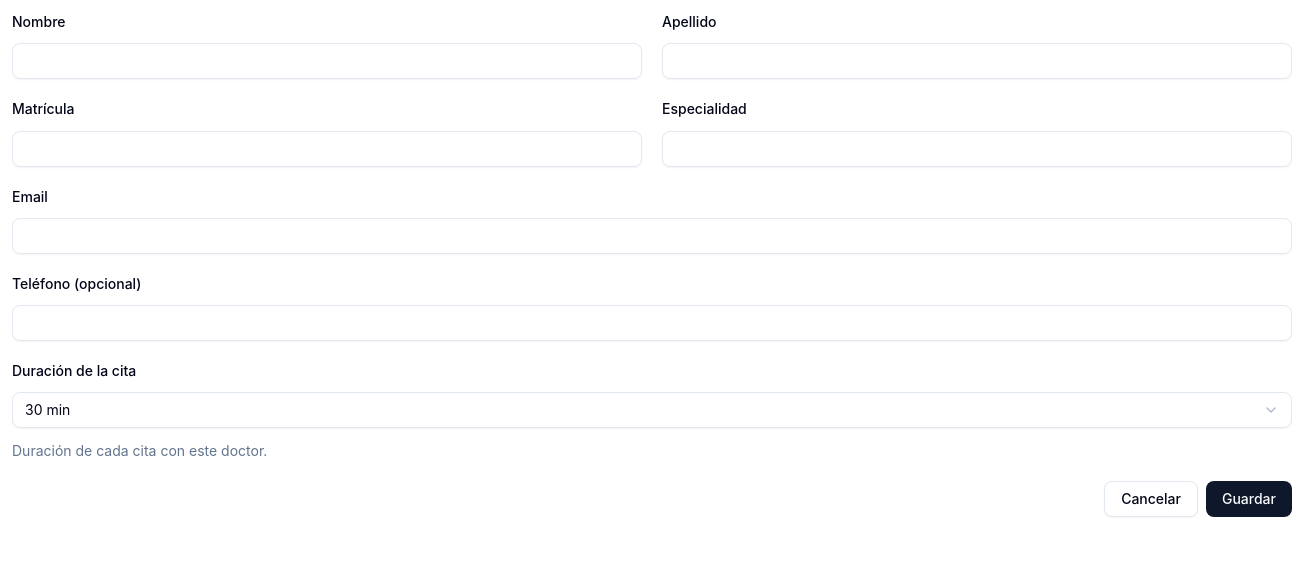
it: DoctorForm › shows a 409 under the license number and keeps the values
In the field labelled "Nombre": (327, 61) [12,43,642,79], type "  Luis "
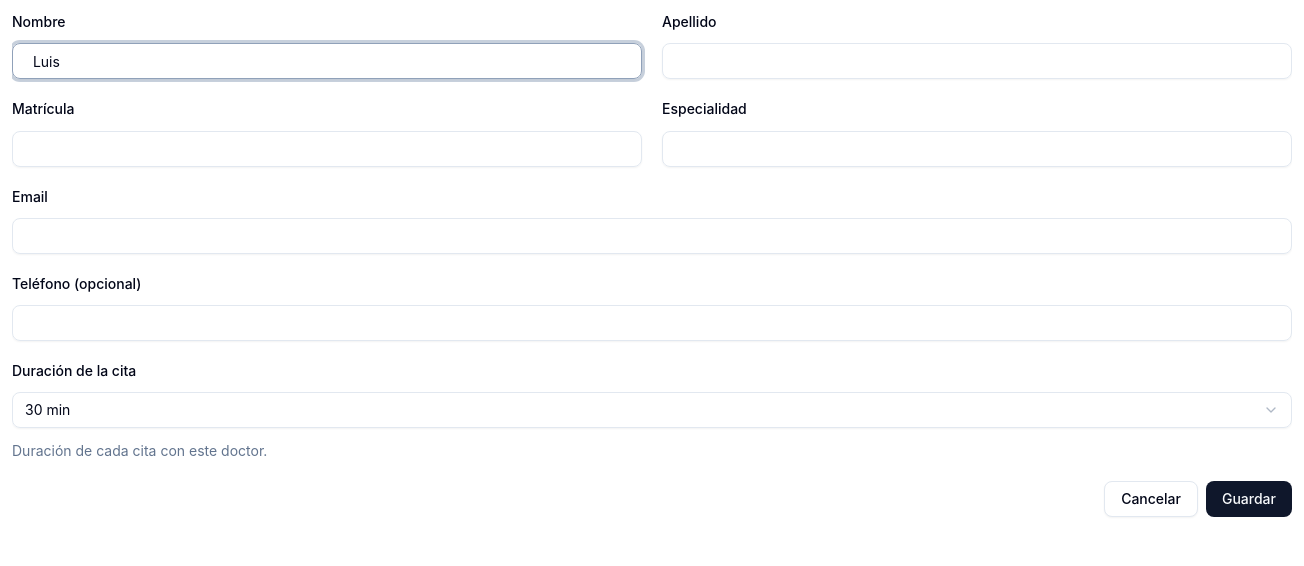
In the field labelled "Apellido": (977, 61) [662,43,1292,79], type "Mora"
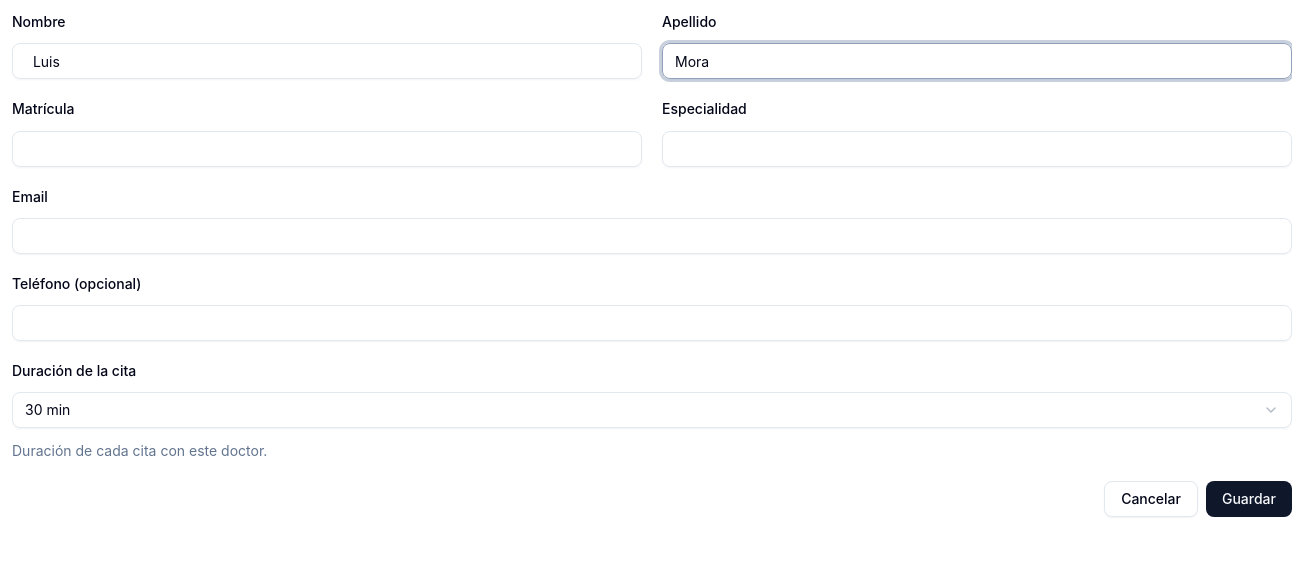
In the field labelled "Matrícula": (327, 148) [12,130,642,166], type " mp-12345 "
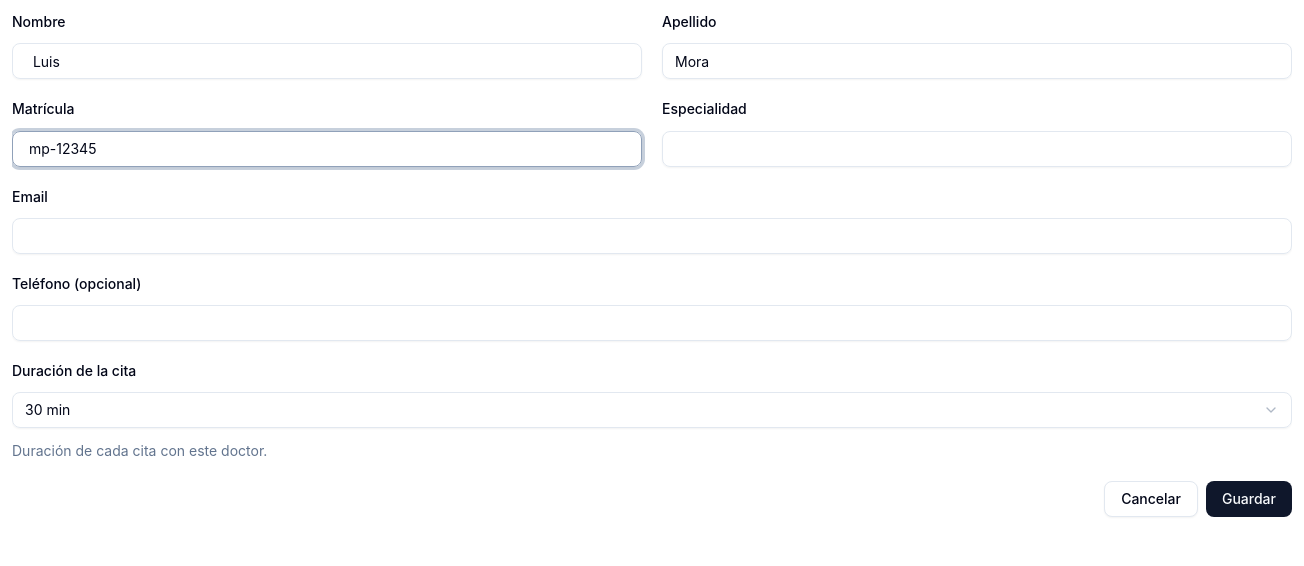
In the field labelled "Especialidad": (977, 148) [662,130,1292,166], type "Pediatría"
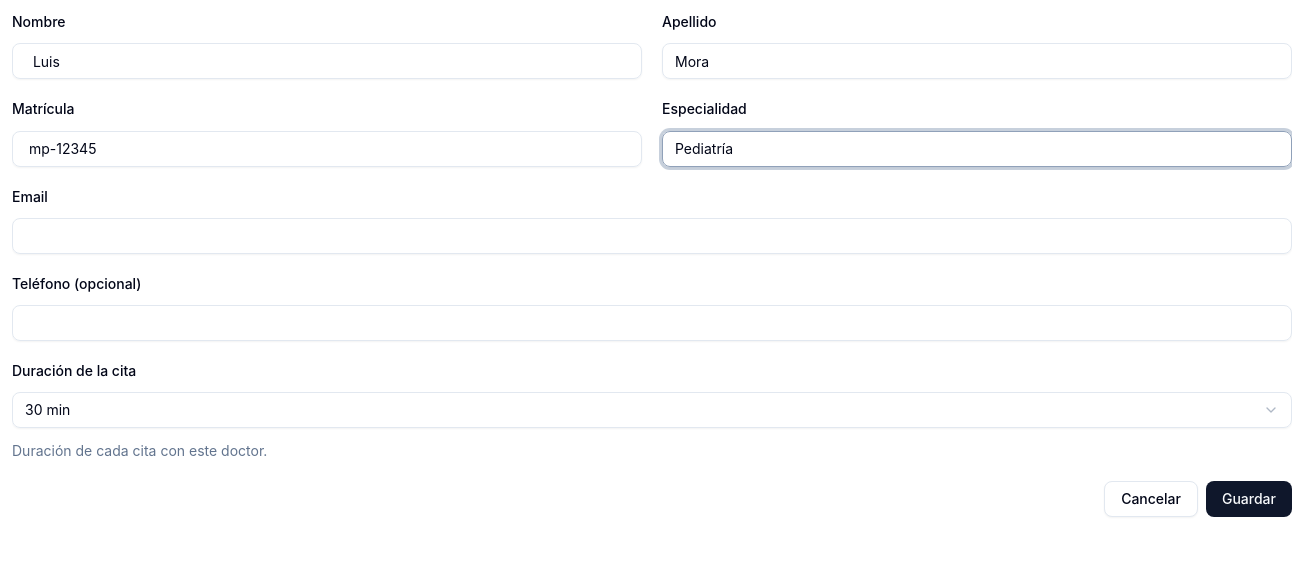
In the field labelled "Email": (652, 236) [12,218,1292,254], type "luis.mora@dispensario.local"
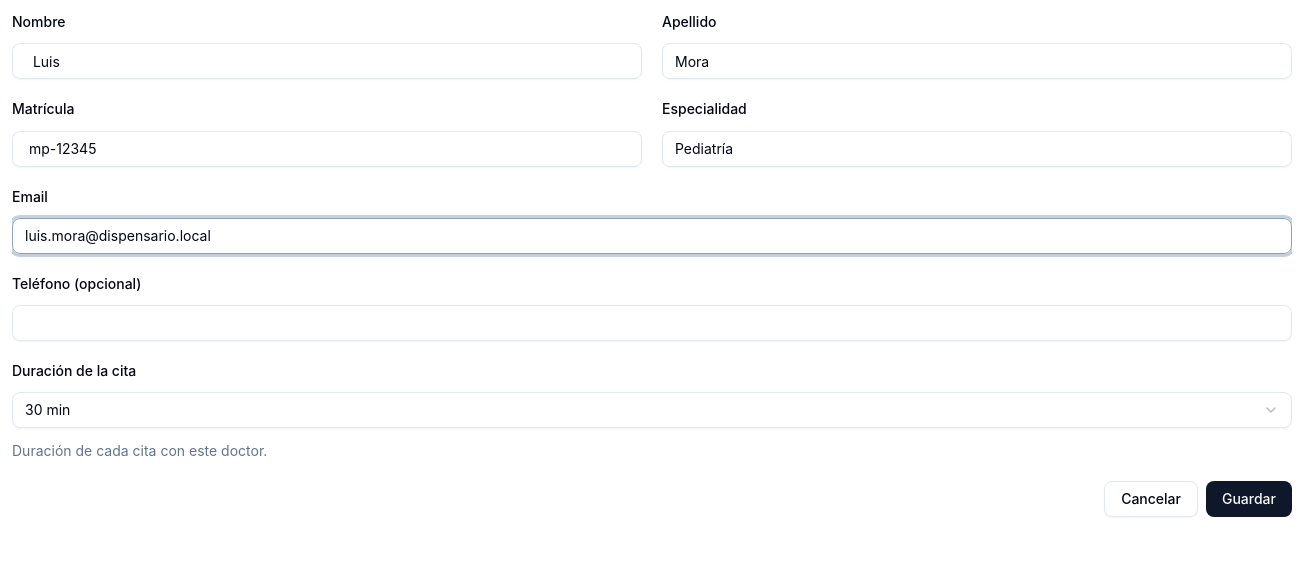
Click the button "Guardar": (1249, 499) [1206,481,1292,517]
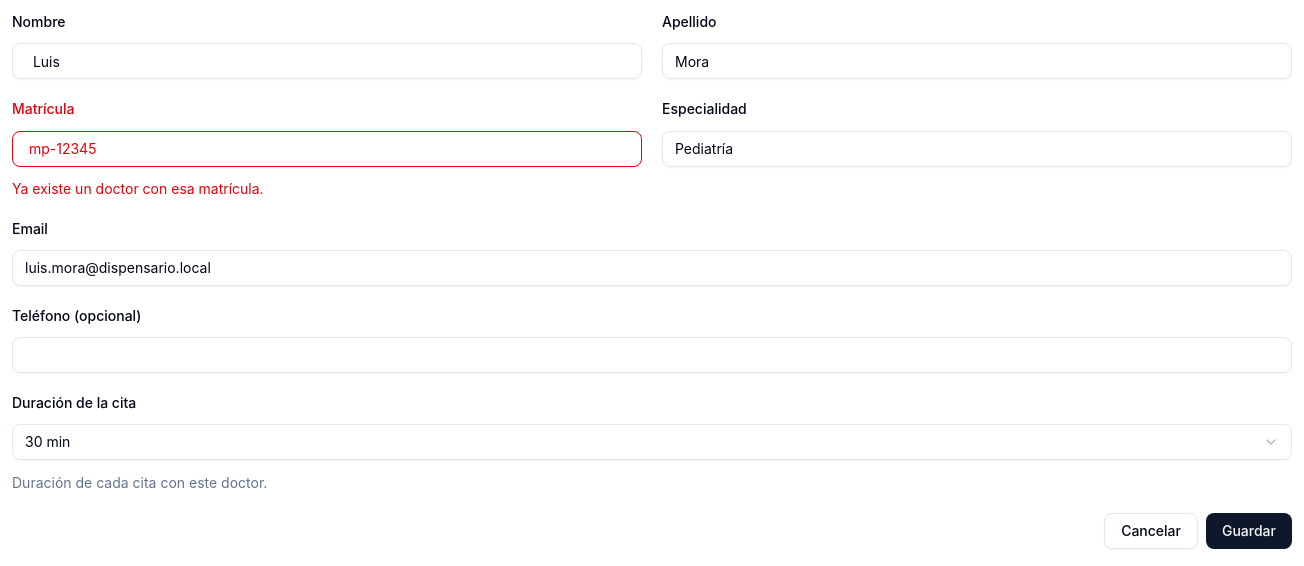
Expected: the text "Ya existe un doctor con esa matrícula." is shown, [12,180,264,196]
